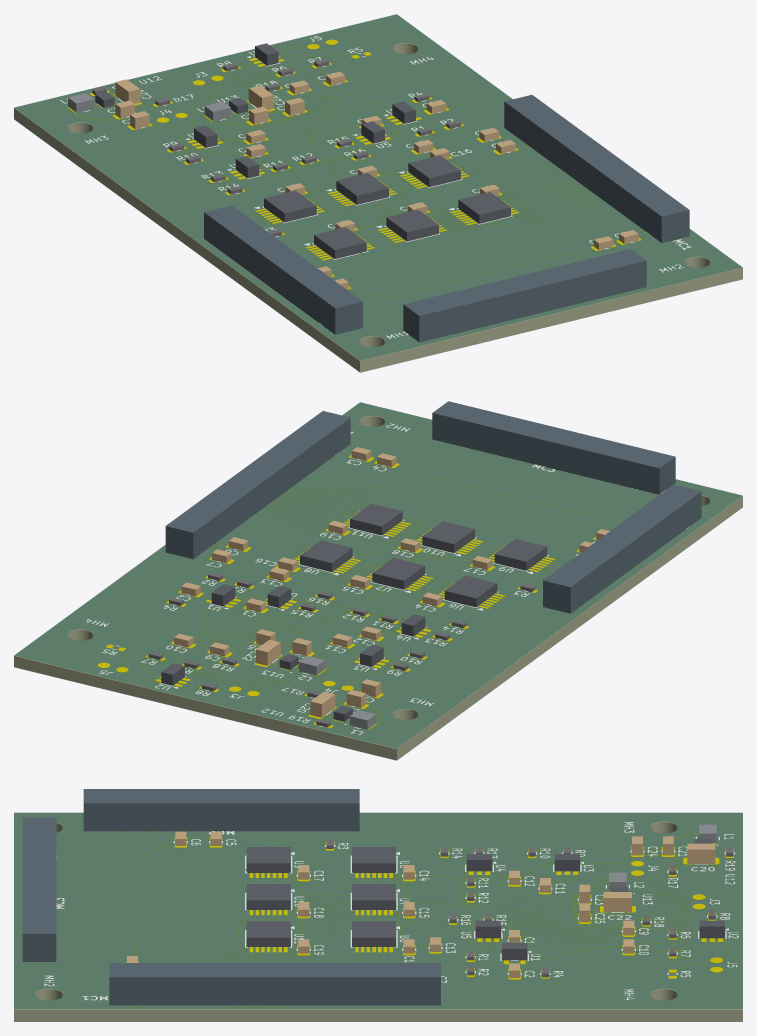
File: xem8305-direct-r3.glb
3 views of the same model, one above another, from view 1: azimuth 30°, elevation 25°; view 2: azimuth 150°, elevation 25°; view 3: azimuth 270°, elevation 25° (orthographic). The views are drawn at different scales.
Parts seen in each view (by area): view 1: Material-batched review assembly; view 2: Material-batched review assembly; view 3: Material-batched review assembly.
Part boxes in pixels (box(x1,y1,x2,y2)): Material-batched review assembly: box(14, 14, 742, 372); Material-batched review assembly: box(14, 401, 742, 760); Material-batched review assembly: box(14, 789, 742, 1021).
Size of the model in its own units: 0.053 by 0.00707 by 0.083.
